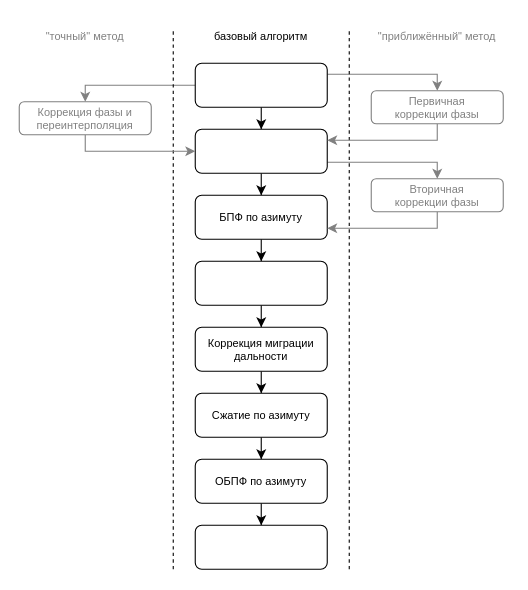
Some shapes in this 528 by 590 pixel diagram are drawn without their labels. The centre of each missing label's shape, as x and y in pixels:
"Вторичное сжатие по дальности" belongs at pixel 260 282.
"Голограмма" belongs at pixel 260 84.
"РЛИ" belongs at pixel 260 546.
"Сжатие по дальности" belongs at pixel 260 150.
